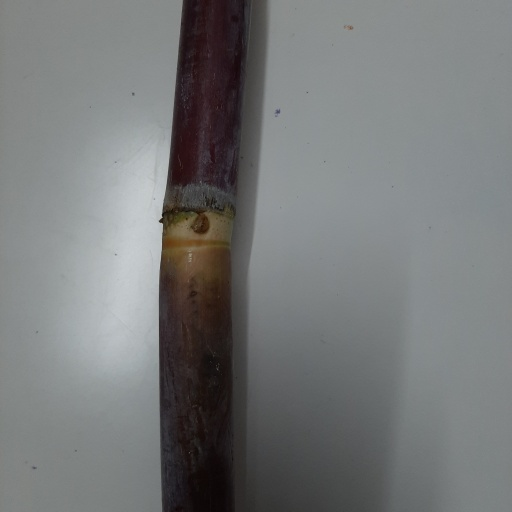Bud: (192, 212, 208, 235)
